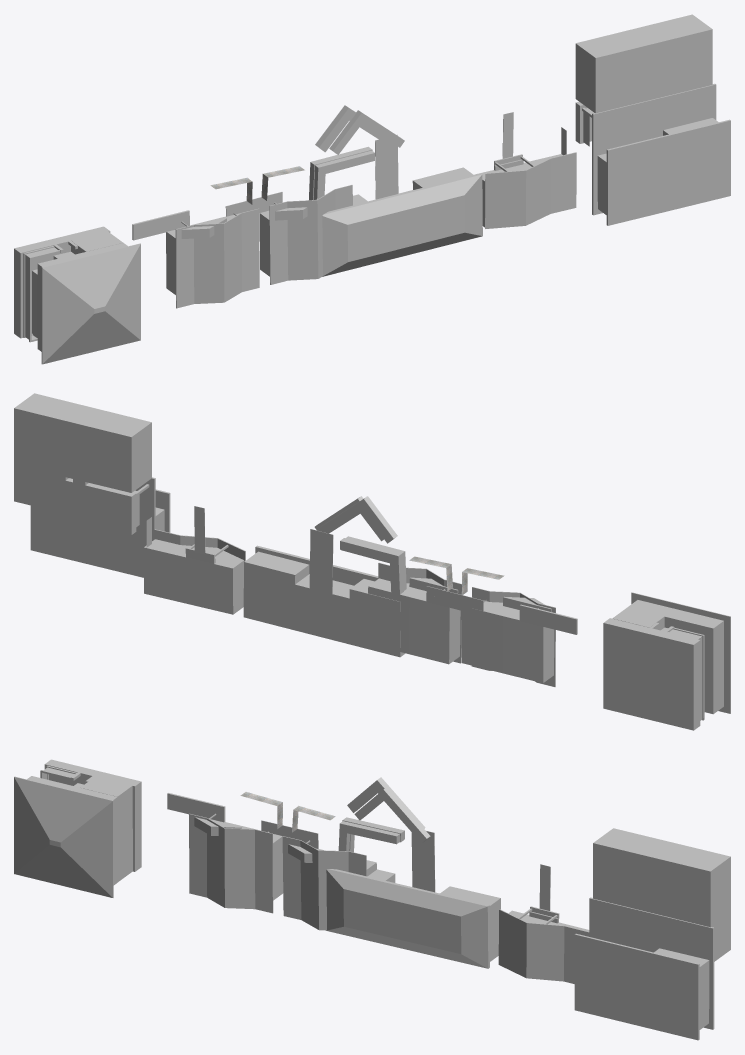
The model's file is lowpolyneighborhood_wtf.obj.
3 views of the same model, one above another, from view 1: azimuth 30°, elevation 25°; view 2: azimuth 150°, elevation 25°; view 3: azimuth 330°, elevation 25° (orthographic).
Parts seen in each view (by area): view 1: group45, group55, group8, group25, group93, group43, group7, group84, group27, group56, group34, group22 (+10 smaller); view 2: group49, group56, group24, group7, group89, group40, group74, group54, group4, group27, group34, group55 (+13 smaller); view 3: group45, group55, group8, group25, group93, group7, group43, group84, group27, group26, group56, group62 (+13 smaller).
Part boxes in pixels (<box>): group45: <box>322,173,482,276</box>; group55: <box>41,243,140,364</box>; group8: <box>606,119,730,225</box>; group25: <box>595,29,712,113</box>; group93: <box>175,208,259,308</box>; group43: <box>485,152,576,228</box>; group7: <box>592,83,716,215</box>; group84: <box>269,185,352,284</box>; group27: <box>576,14,712,57</box>; group56: <box>14,226,110,338</box>; group34: <box>375,134,398,199</box>; group22: <box>575,44,595,112</box>; group49: <box>243,551,400,657</box>; group56: <box>603,618,700,730</box>; group24: <box>14,408,131,513</box>; group7: <box>30,477,155,577</box>; group89: <box>461,606,543,682</box>; group40: <box>143,547,233,614</box>; group74: <box>368,586,449,664</box>; group54: <box>628,600,723,714</box>; group4: <box>65,478,136,534</box>; group27: <box>14,393,151,436</box>; group34: <box>309,529,333,595</box>; group55: <box>631,592,730,713</box>; group45: <box>326,869,489,968</box>; group55: <box>14,776,113,897</box>; group8: <box>574,933,699,1040</box>; group25: <box>593,843,710,927</box>; group93: <box>189,813,273,913</box>; group7: <box>589,897,714,1029</box>; group43: <box>498,909,589,983</box>; group84: <box>282,836,366,930</box>; group27: <box>593,828,730,871</box>; group26: <box>710,857,730,961</box>; group56: <box>44,759,141,871</box>; group62: <box>117,786,132,881</box>.
Size of the model in its own units: 660 by 148 by 68.25.
